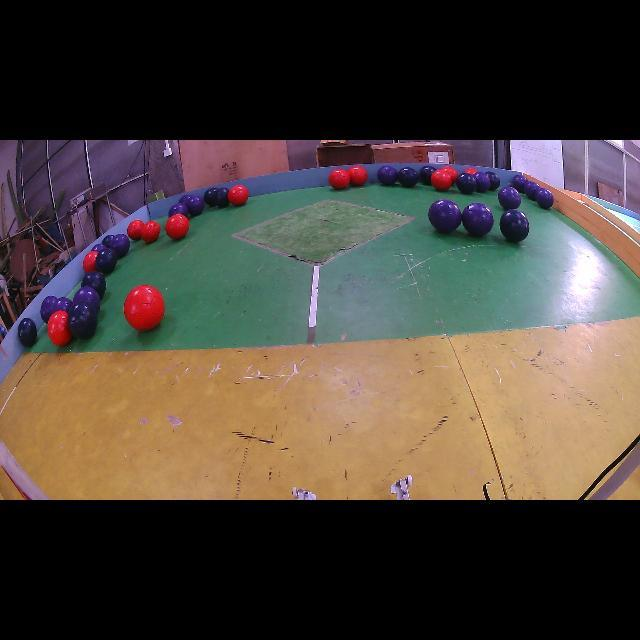B: (68, 301, 98, 339), (500, 209, 530, 242), (81, 271, 106, 299), (95, 248, 118, 274), (456, 172, 476, 194), (398, 168, 419, 188), (419, 165, 436, 185), (486, 171, 500, 191)
P: (461, 202, 494, 236), (429, 199, 461, 232), (72, 286, 100, 312), (498, 186, 521, 210), (110, 234, 130, 258), (185, 195, 205, 216), (535, 188, 554, 209), (378, 166, 398, 185), (474, 171, 490, 192), (168, 202, 189, 218), (524, 181, 540, 201), (512, 174, 528, 192), (91, 244, 106, 252)
R: (124, 285, 165, 331), (48, 310, 71, 346), (165, 214, 190, 239), (431, 170, 452, 191), (228, 185, 249, 205), (329, 169, 350, 189), (141, 220, 160, 242), (348, 166, 368, 185), (82, 251, 99, 272), (128, 220, 144, 240), (442, 166, 458, 183), (464, 168, 478, 174)
